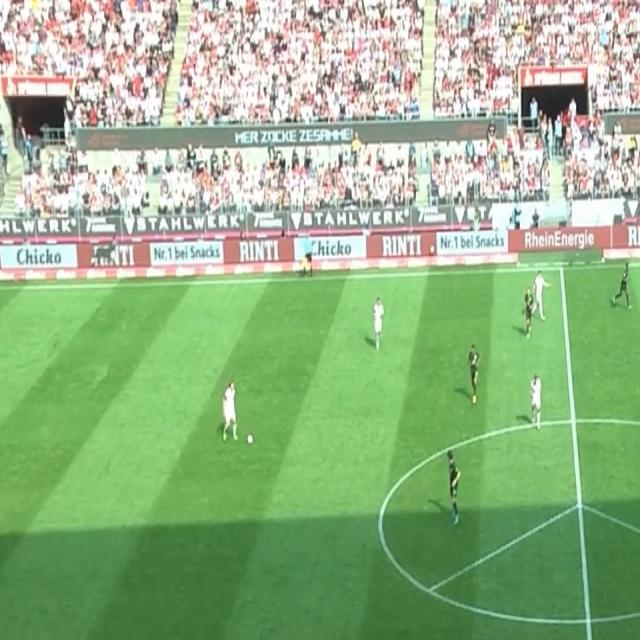ball: (247, 432, 254, 444)
